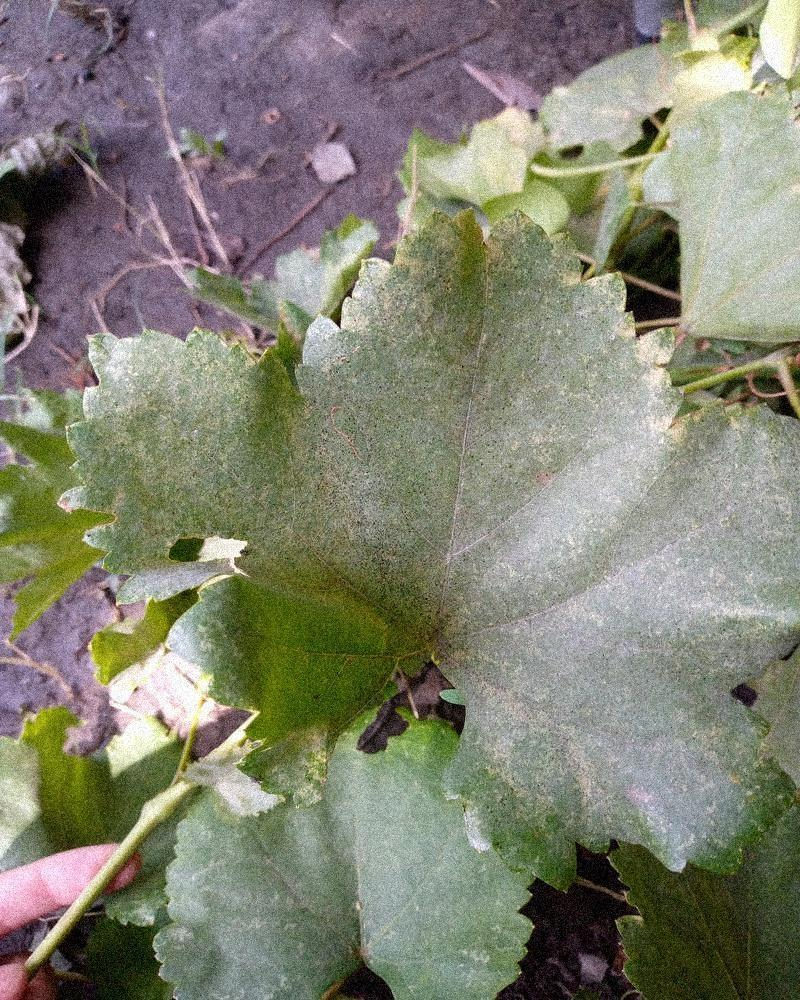Powdery-Mildew: (519, 274, 799, 646), (482, 671, 743, 858), (72, 332, 270, 537), (351, 359, 527, 577), (248, 405, 350, 593), (355, 256, 418, 319), (309, 324, 372, 387), (487, 607, 550, 670)
